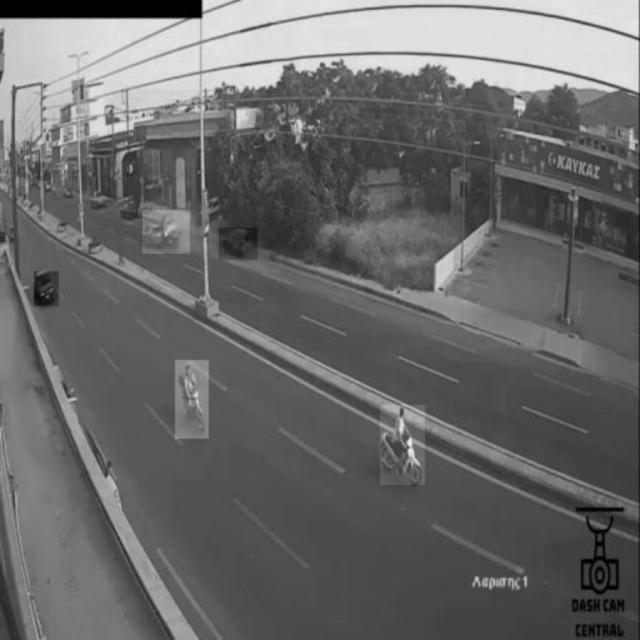accident: (143, 210, 190, 254)
vehicle: (380, 405, 425, 485), (175, 361, 209, 439), (219, 227, 257, 261), (35, 272, 60, 307)
